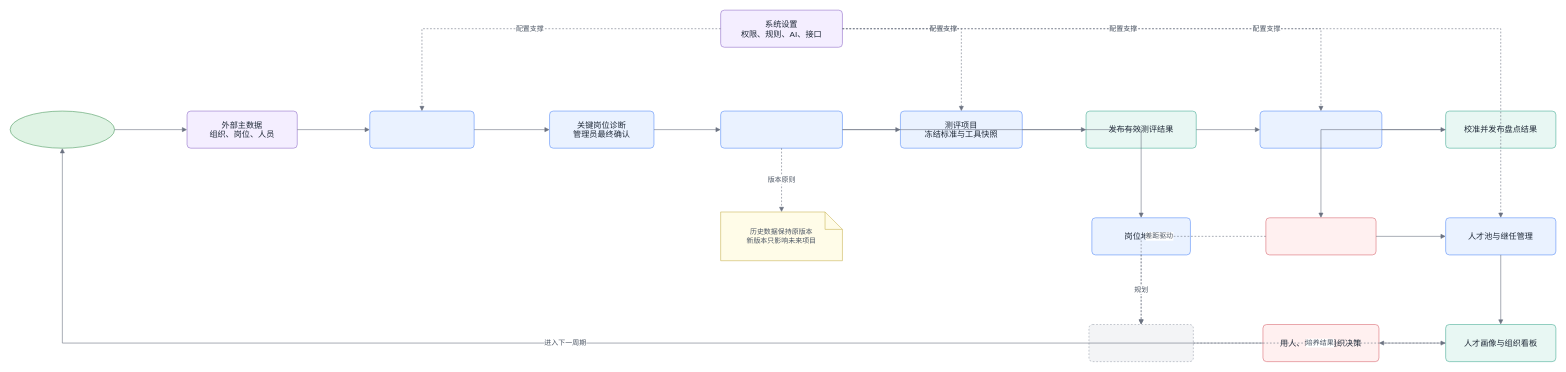
Image size: 1566x372. Some labels were removed from this diagram. The shapes that lost their labels are listed below. From the top down, each one's box as (x1, y1, x2, y2) in pixels, then its label:
(10, 110, 115, 148): 企业战略与组织目标
(369, 110, 474, 148): 组织结构分析 形成生效版本
(720, 110, 842, 148): 标准发布 岗位标准版本
(1259, 110, 1382, 148): 人才盘点 冻结数据与规则快照
(1265, 217, 1376, 255): 盘点行动管理
(1088, 324, 1193, 362): IDP 与培养项目 规划能力
